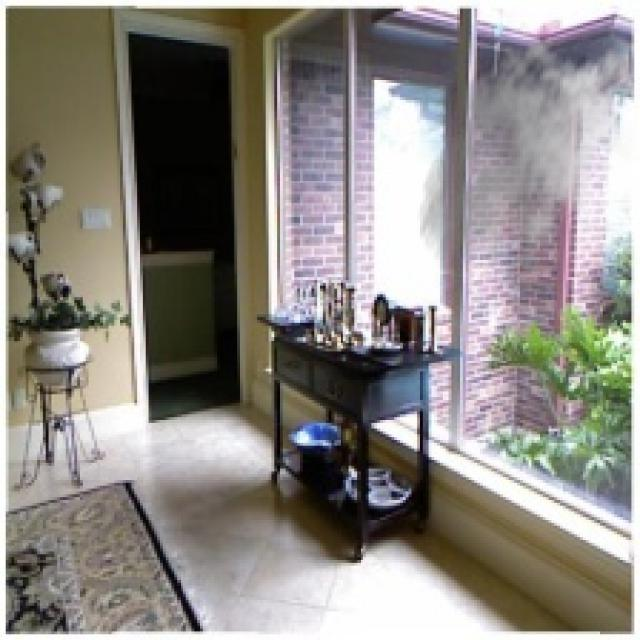Smoke: (417, 31, 637, 292)
